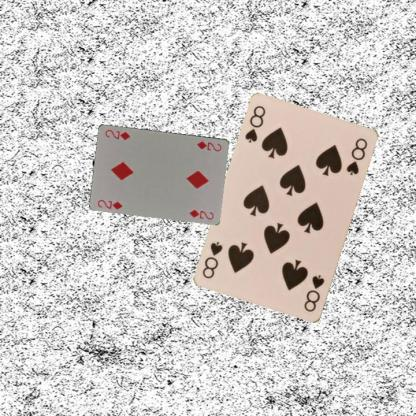2d: (194, 138, 223, 152), (95, 197, 124, 211)
8s: (301, 272, 326, 314), (242, 103, 267, 144)
